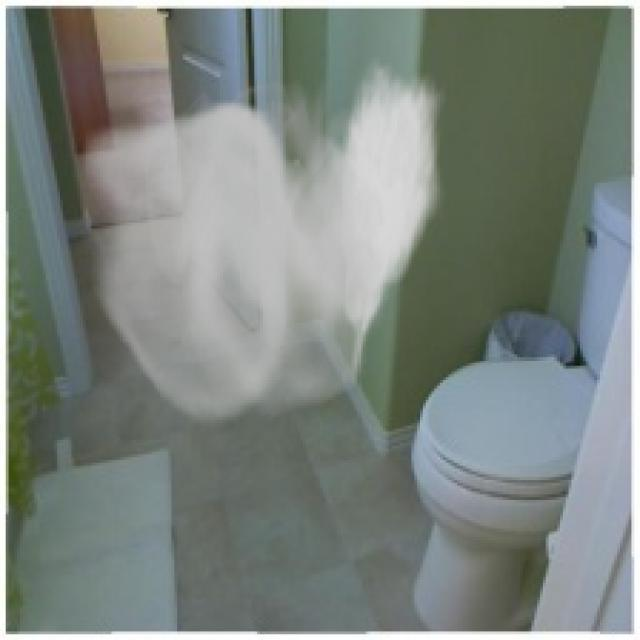Smoke: (83, 57, 446, 434)
